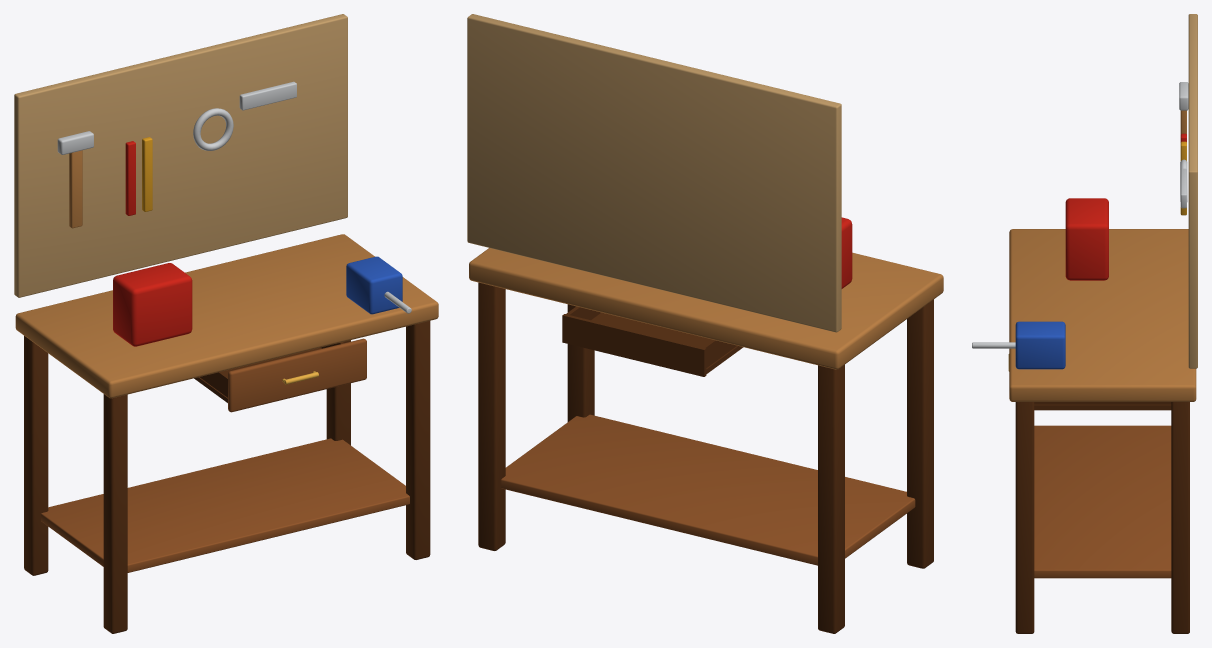
The model's file is workbench.glb.
3 renders of one model, left to right at view 1: azimuth 30°, elevation 25°; view 2: azimuth 150°, elevation 25°; view 3: azimuth 270°, elevation 25°, orthographic. The views are drawn at different scales.
Parts seen in each view (by area): view 1: workbench, workbench_drawer; view 2: workbench, workbench_drawer; view 3: workbench, workbench_drawer.
Part boxes in pixels (x1=…): workbench: x1=14, y1=14, x2=438, y2=633; workbench_drawer: x1=194, y1=338, x2=366, y2=412; workbench: x1=467, y1=14, x2=943, y2=633; workbench_drawer: x1=562, y1=306, x2=743, y2=376; workbench: x1=972, y1=14, x2=1197, y2=633; workbench_drawer: x1=1008, y1=354, x2=1171, y2=410.
Size of the model in its own units: 1.2 by 1.65 by 0.725.
